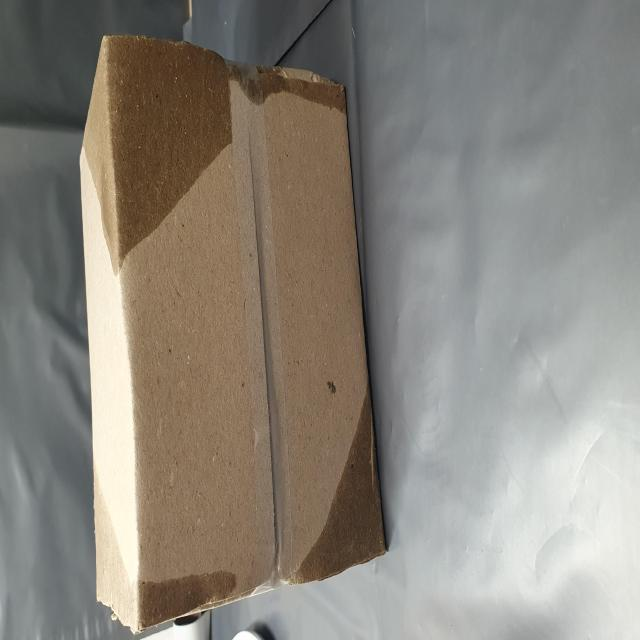wet: (20, 152, 328, 640)
